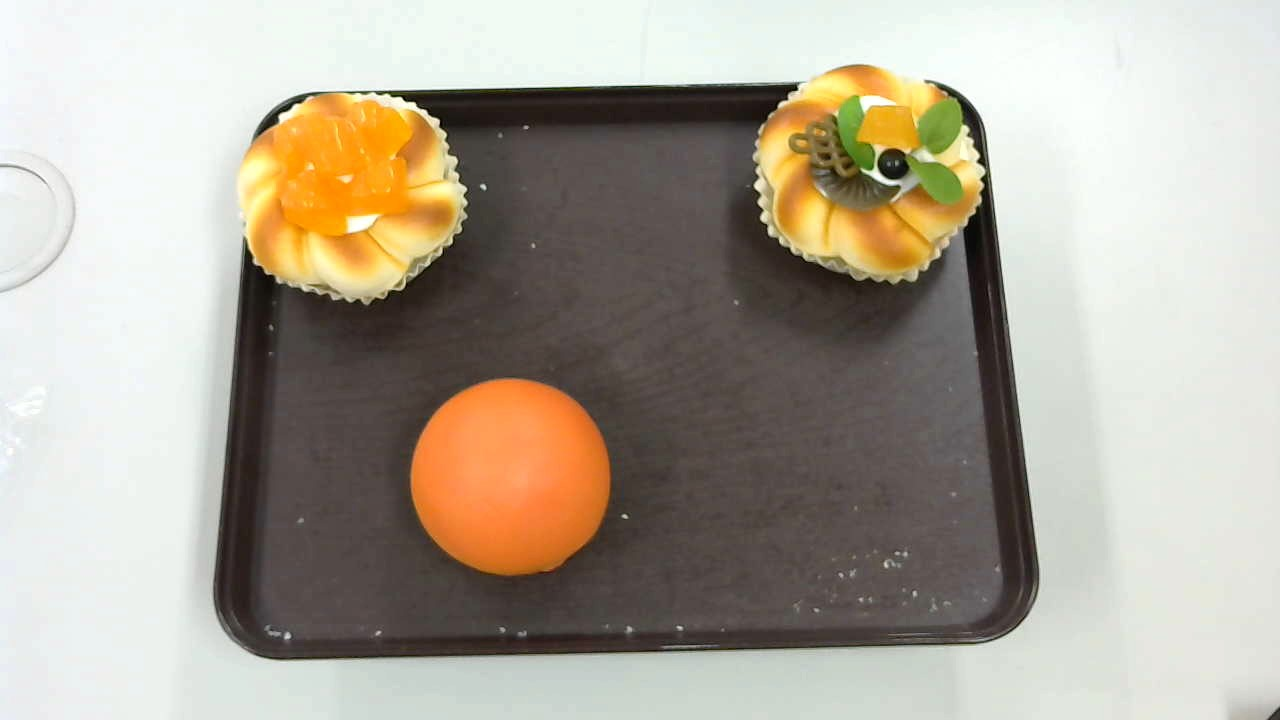bun: (409, 377, 612, 576)
fruit tart: (754, 66, 986, 283)
mango tart: (236, 91, 467, 304)
